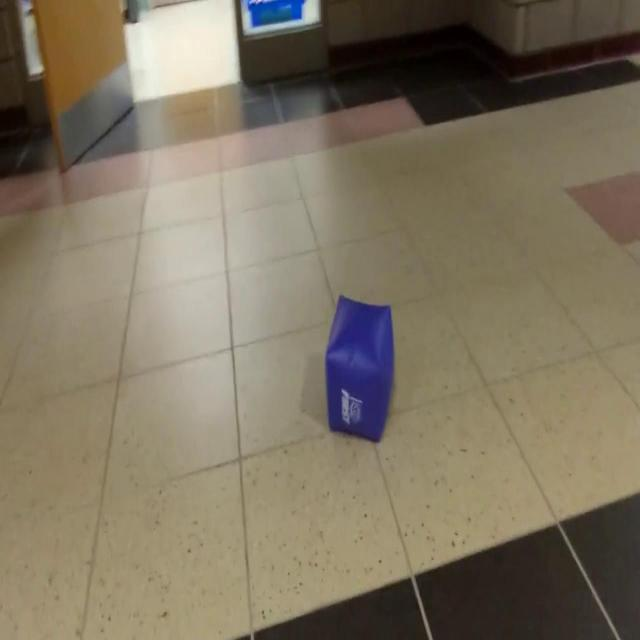frc_cube: (323, 290, 395, 442)
